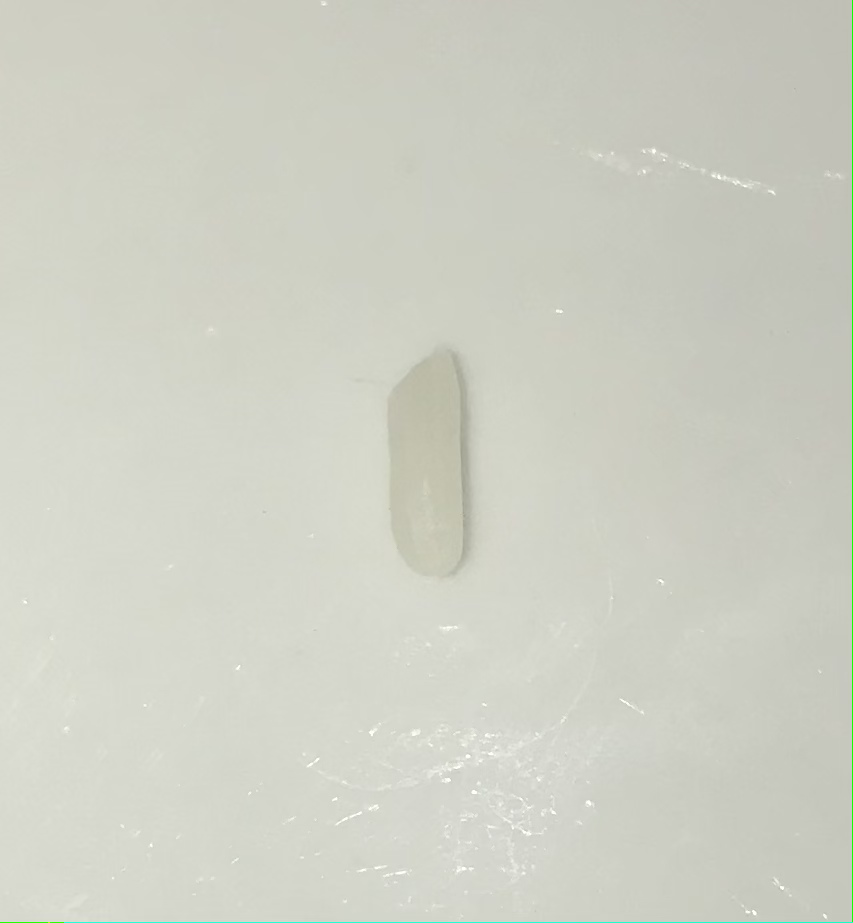Gao Thom Go Cong: (363, 338, 508, 600)
